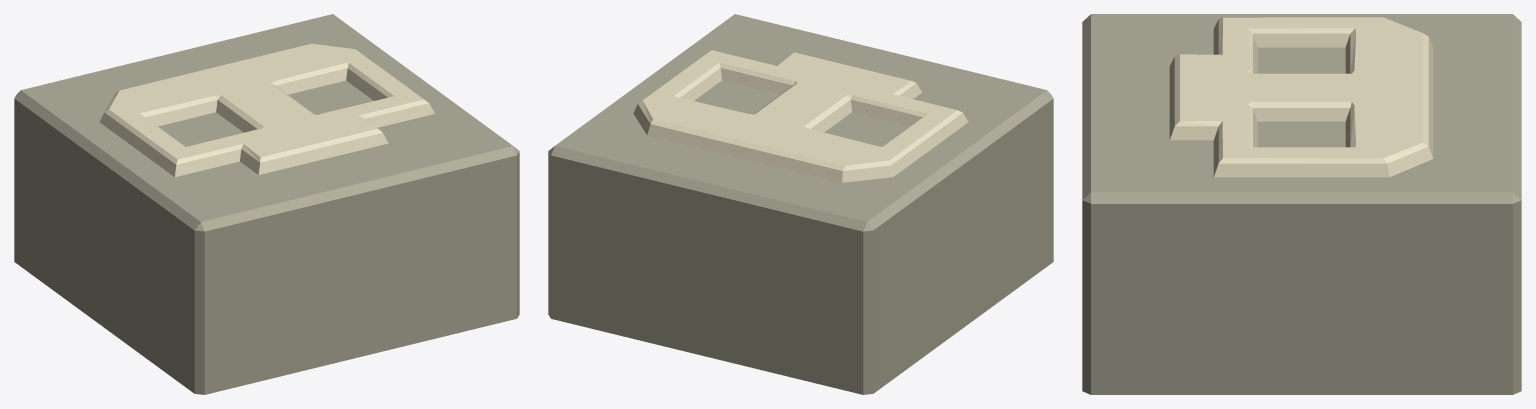
File: evilTile.FBX
The picture shows the model from 3 angles, left to right: view 1: azimuth 30°, elevation 25°; view 2: azimuth 150°, elevation 25°; view 3: azimuth 270°, elevation 25°; orthographic projection. The views are drawn at different scales.
Parts seen in each view (by area): view 1: EvilTile; view 2: EvilTile; view 3: EvilTile.
Part boxes in pixels (x1,y1,x2,y2): EvilTile: (14,14,519,394); EvilTile: (548,14,1053,394); EvilTile: (1082,14,1521,394).
Size of the model in its own units: 100 by 53.87 by 100.
1 material, 1 textured.
